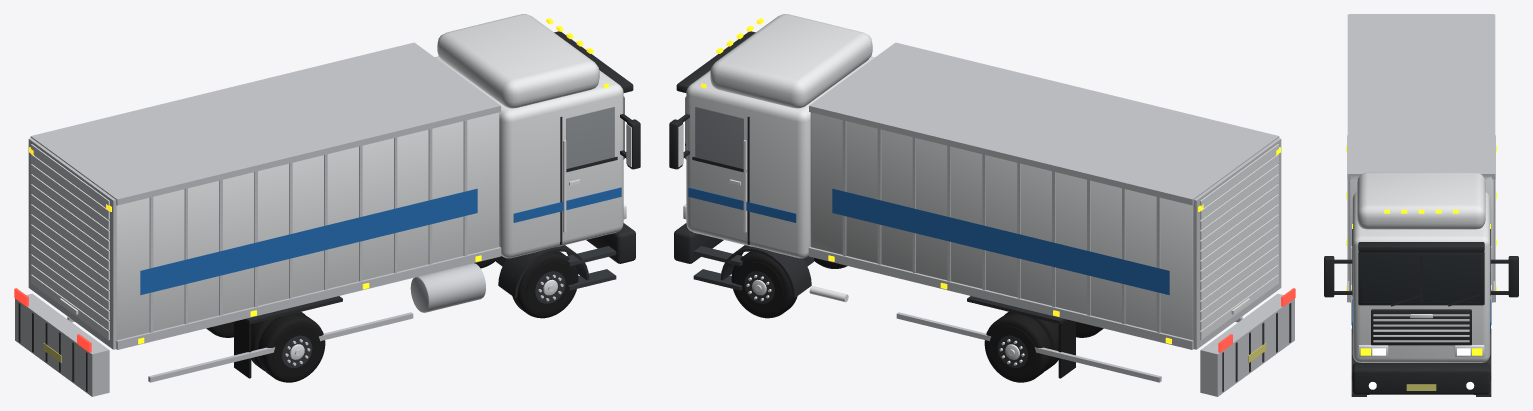
The model's file is truck_box.glb.
3 views of the same model, side by side, from view 1: azimuth 30°, elevation 25°; view 2: azimuth 150°, elevation 25°; view 3: azimuth 270°, elevation 25° (orthographic). The views are drawn at different scales.
Visible parts, largest first — view 1: truck_box; view 2: truck_box; view 3: truck_box.
Boxes of the visible parts, x1,y1,x2,y2 form: truck_box: (14,14,640,396); truck_box: (669,14,1295,396); truck_box: (1324,14,1518,396).
Size of the model in its own units: 9.41 by 3.97 by 3.4.
